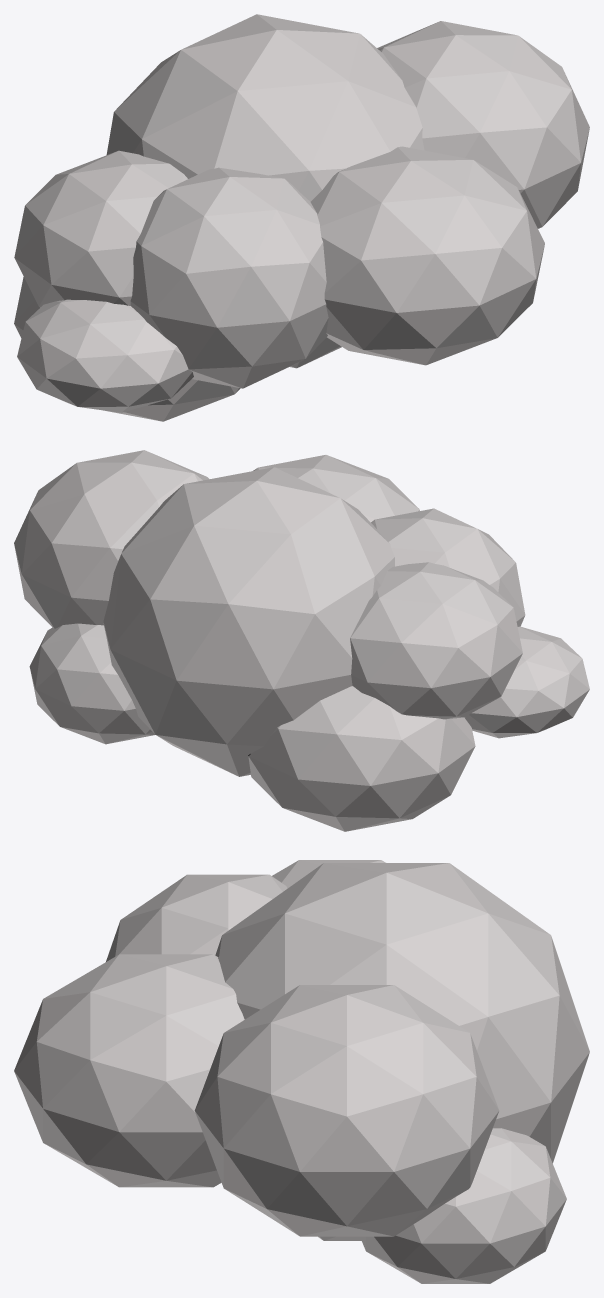
File: Clloud1.fbx
3 renders of one model, top to bottom at view 1: azimuth 30°, elevation 25°; view 2: azimuth 150°, elevation 25°; view 3: azimuth 270°, elevation 25°, orthographic. The views are drawn at different scales.
Parts seen in each view (by area): view 1: Icosphere.007; view 2: Icosphere.007; view 3: Icosphere.007.
Boxes of the visible parts, left/top/right/bottom form: Icosphere.007: left=14, top=14, right=589, bottom=421; Icosphere.007: left=14, top=450, right=589, bottom=831; Icosphere.007: left=14, top=860, right=589, bottom=1283.
Bounding box in the file's own units: 69907 × 40456 × 54172.
